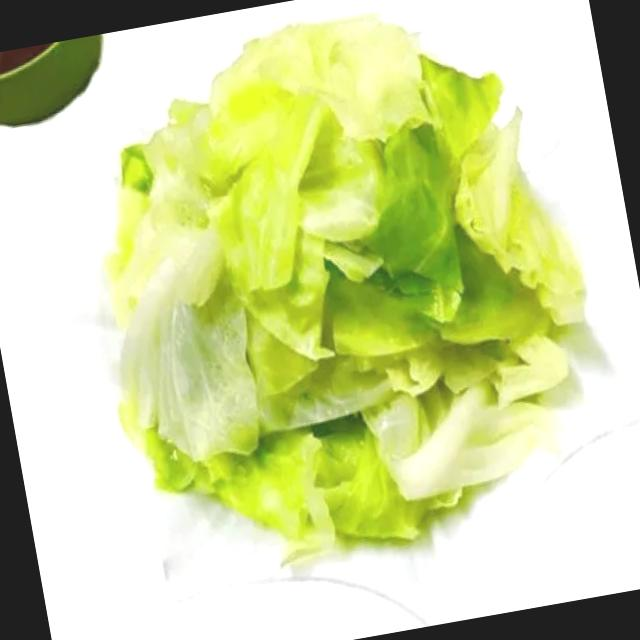bap cai luoc: (107, 14, 584, 537)
